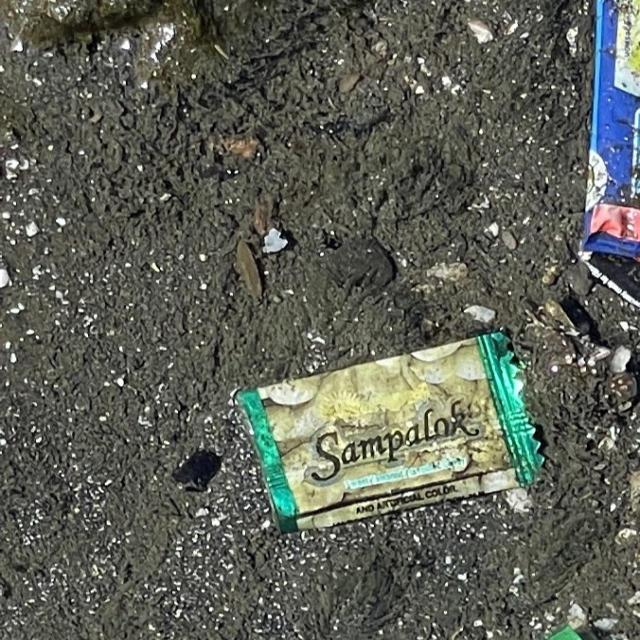plastic_waste: (238, 327, 550, 533)
